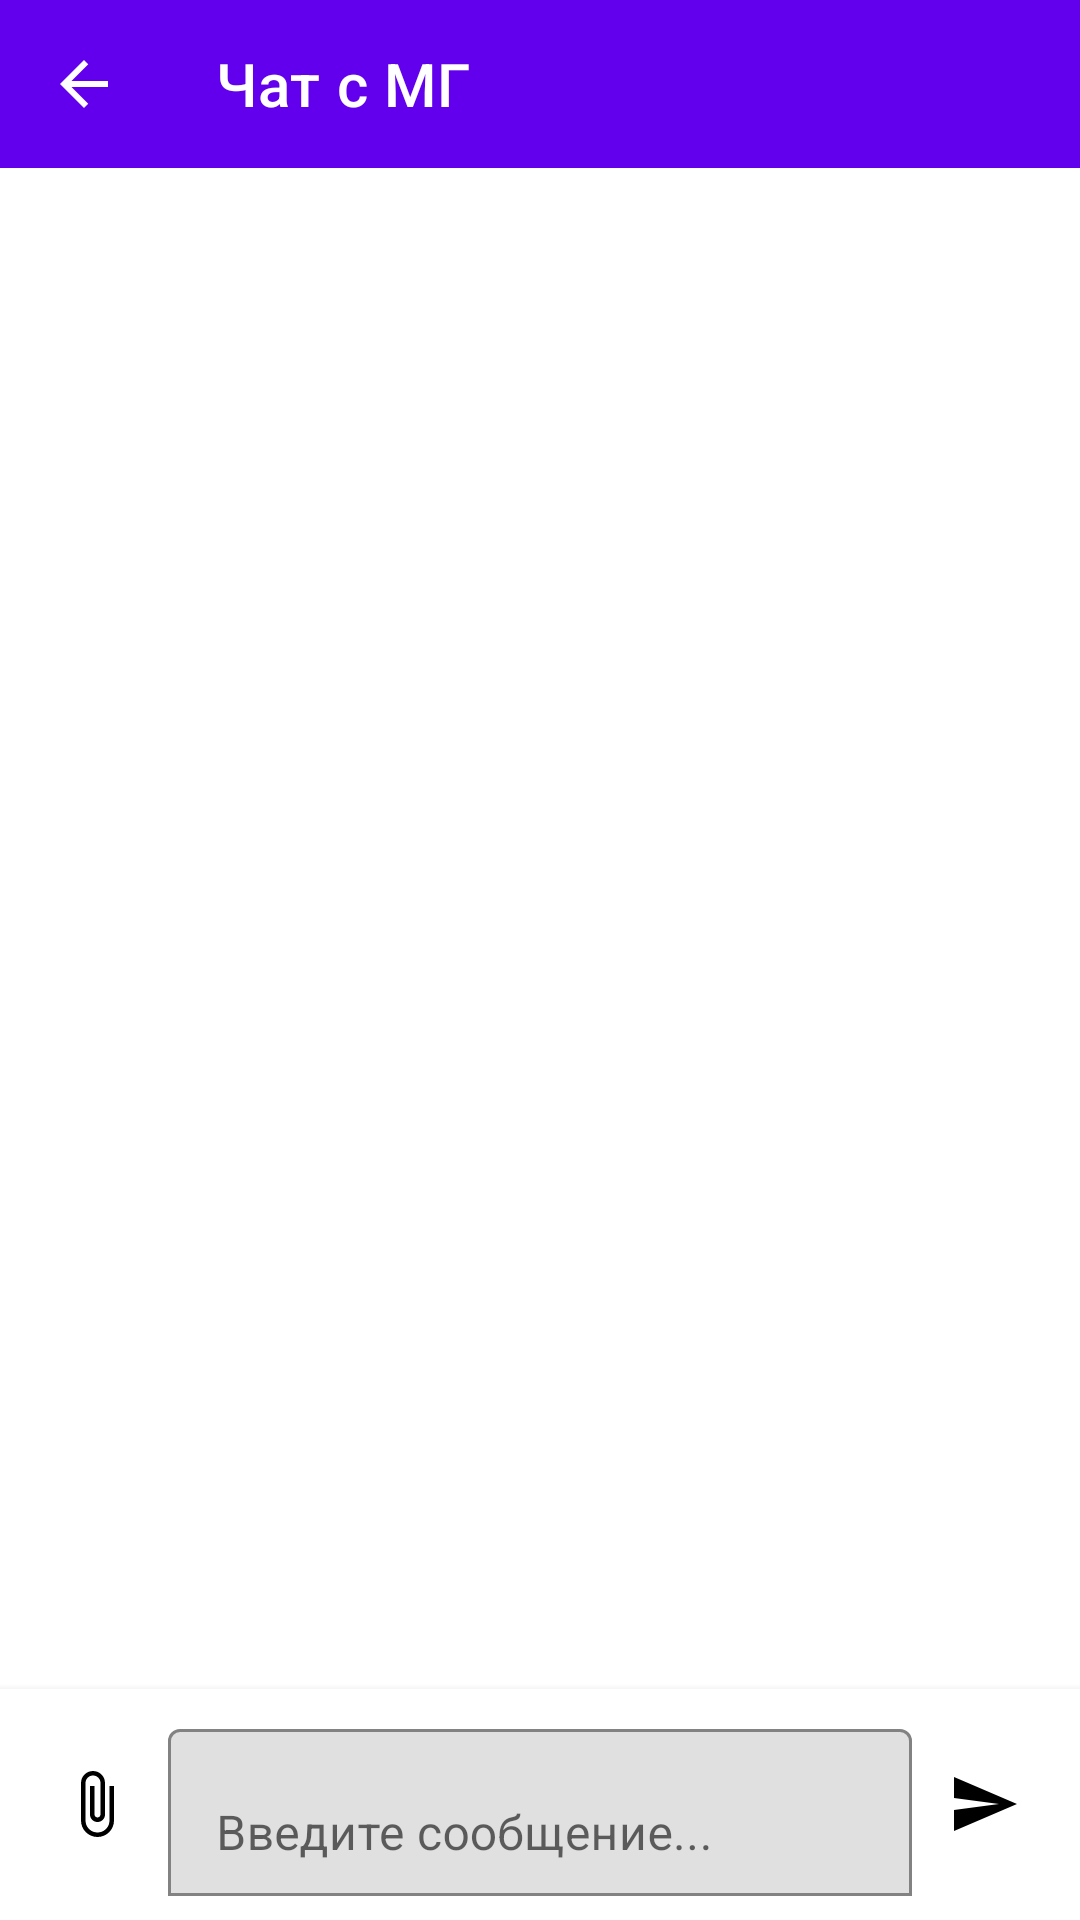

Named icons in this screenshot (1080px x 1920px) and their centers, (x=x, y=y):
Отправить сообщение: (x=985, y=1804)
Прикрепить файл: (x=97, y=1804)
